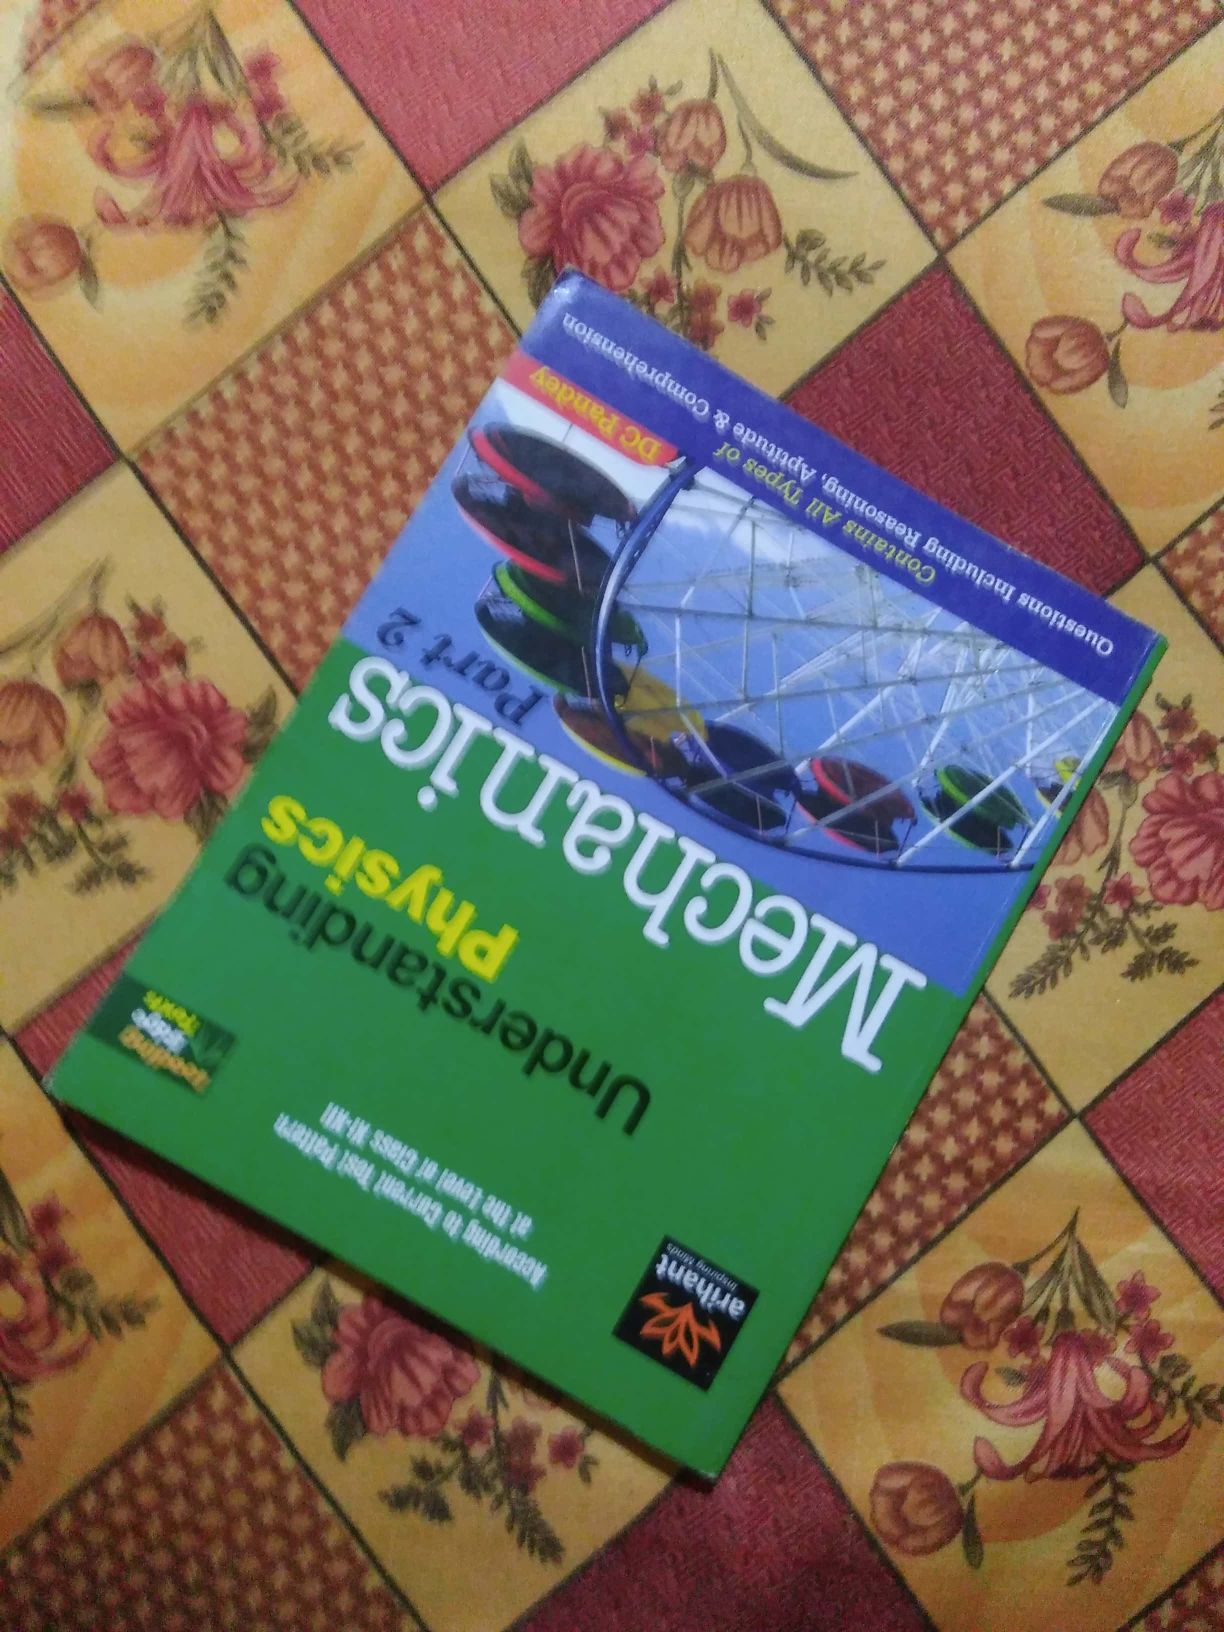mechanics: (129, 315, 1151, 1483)
